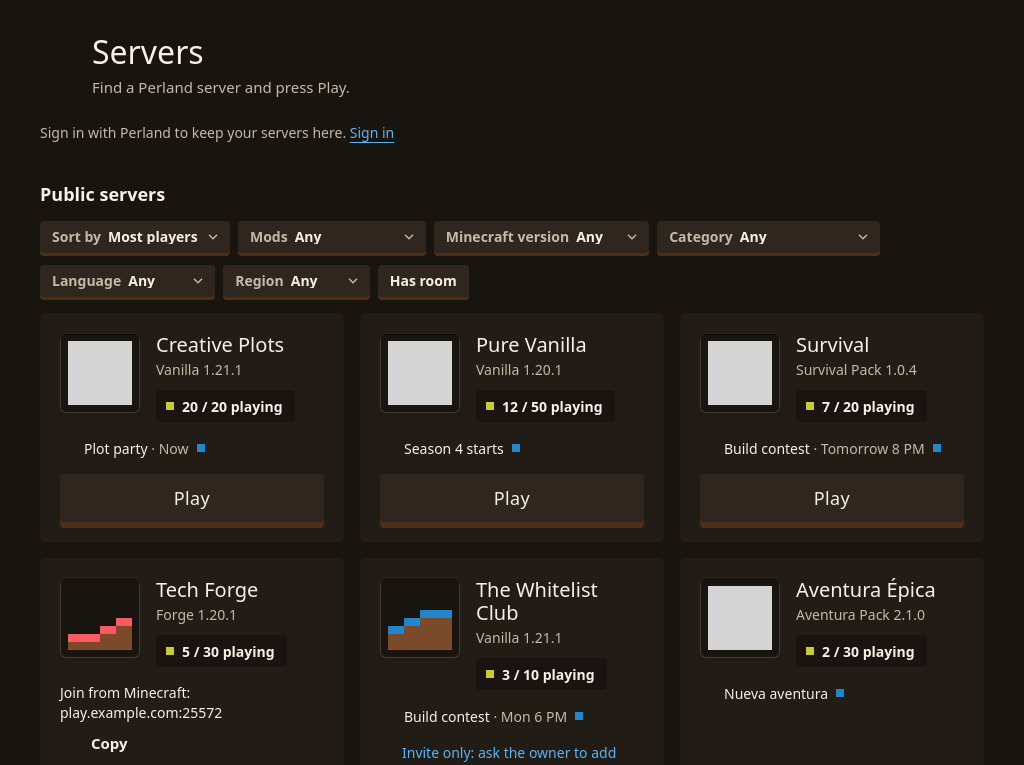
Scenario: the news dialog › the dialog lists posts, pages with Show more, and shows pictures
Click the button with aria-label "News: ".
click(832, 448)  # box [692,432,972,464]
(page scrolled)
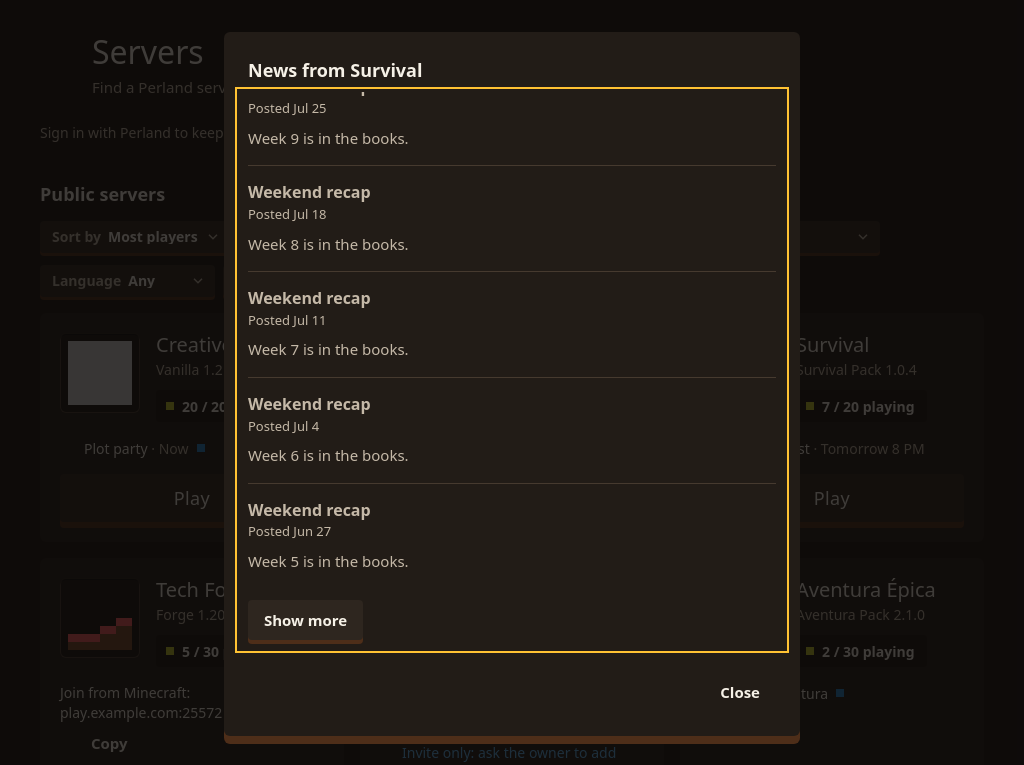
Click the button "Show more".
click(306, 620)  # box [248,600,363,640]
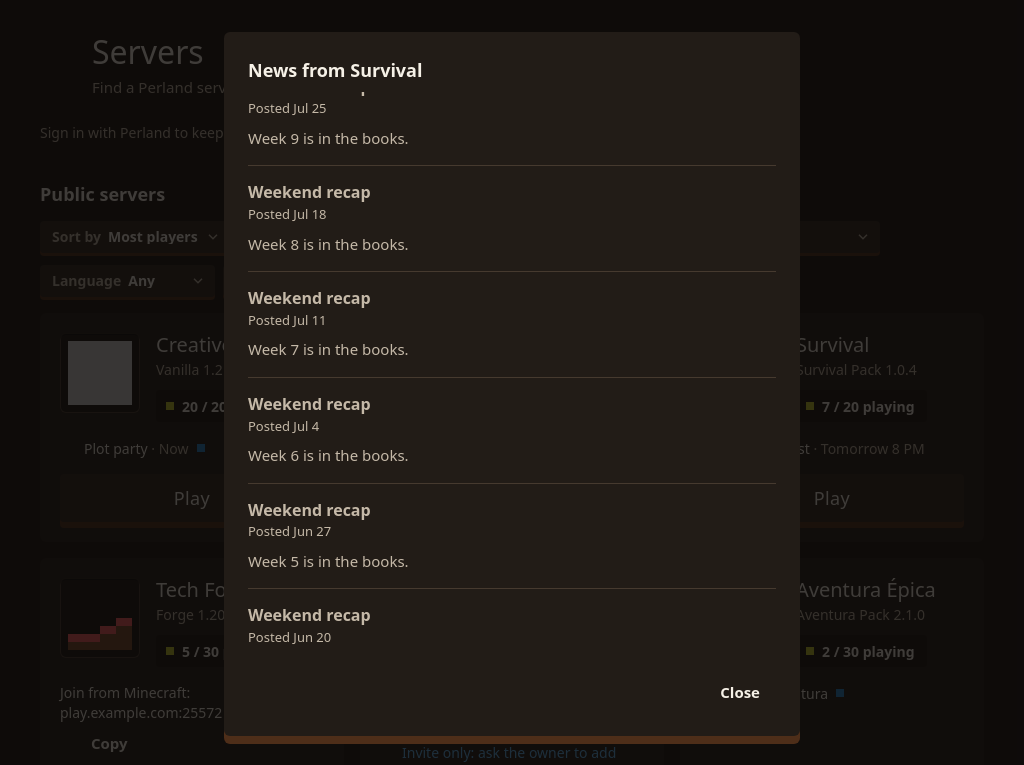
Now the button "Show more" is gone
